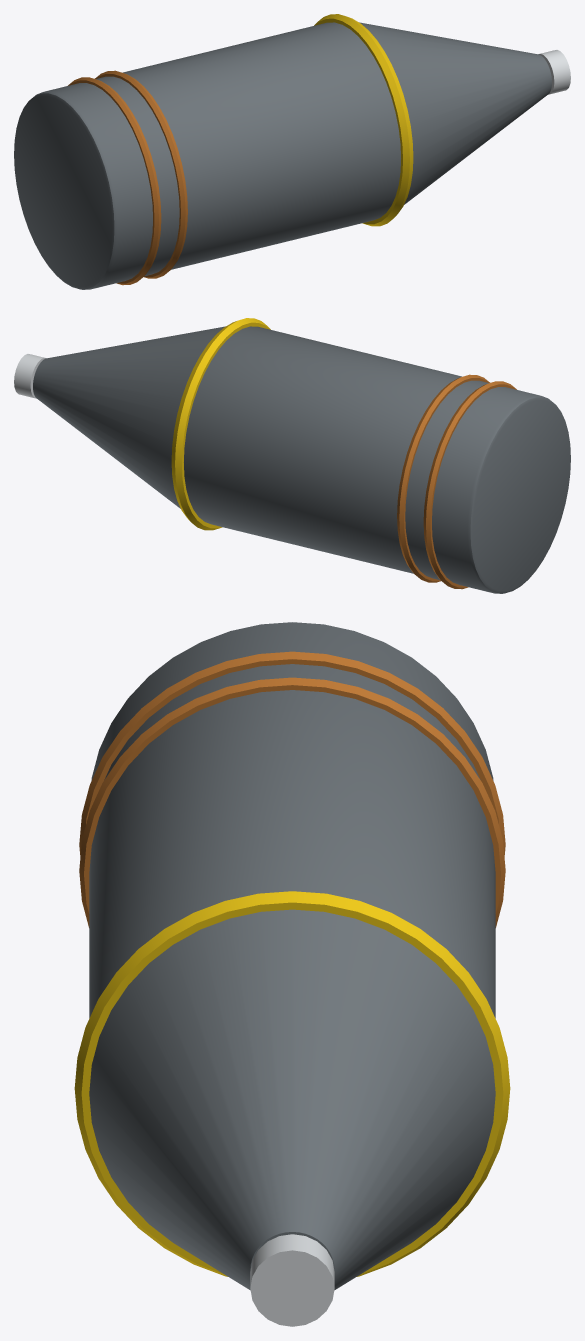
The model's file is shell.glb.
The picture shows the model from 3 angles, top to bottom: view 1: azimuth 30°, elevation 25°; view 2: azimuth 150°, elevation 25°; view 3: azimuth 270°, elevation 25°; orthographic projection. The views are drawn at different scales.
Visible parts, largest first — view 1: shell; view 2: shell; view 3: shell.
Part boxes in pixels (x1,y1,x2,y2): shell: (14,14,570,289); shell: (14,318,570,593); shell: (74,622,510,1326).
Size of the model in its own units: 14.97 by 5.68 by 5.68.
